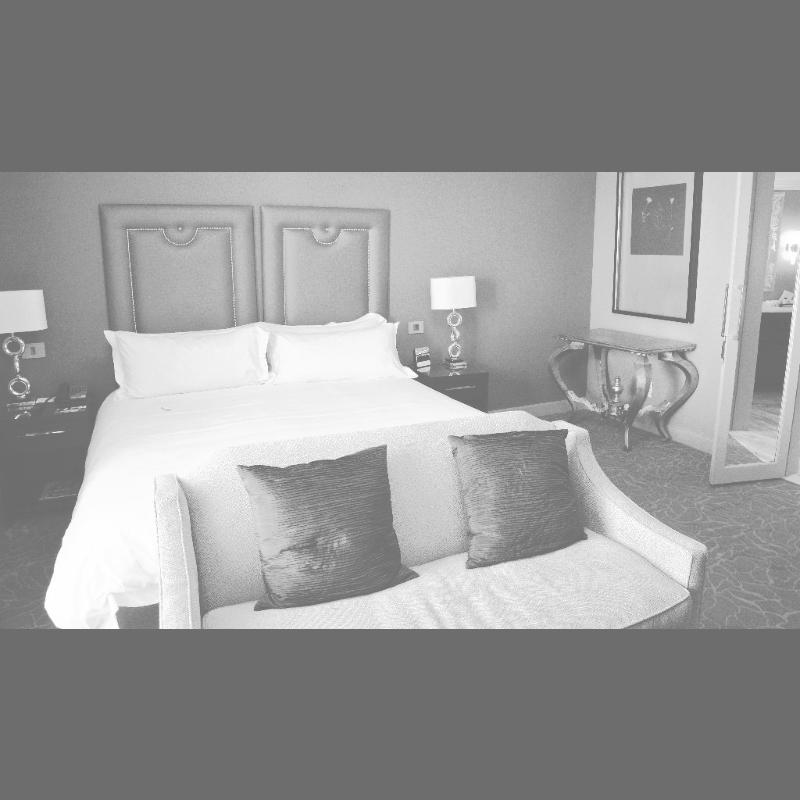pillow: (237, 441, 419, 609), (450, 427, 590, 570), (101, 324, 277, 396), (262, 320, 420, 382)
